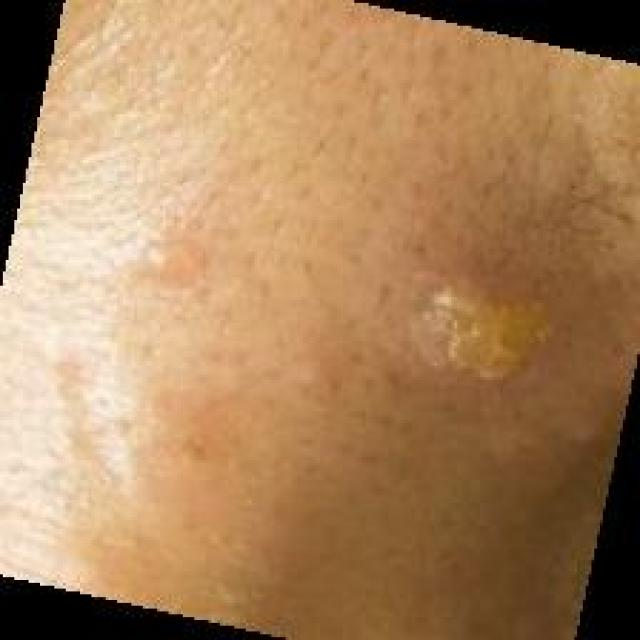others: (78, 74, 579, 616)
